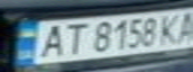1: (109, 17, 130, 51)
5: (127, 16, 148, 48)
8: (90, 18, 115, 53), (139, 15, 163, 47)
A: (33, 21, 69, 59), (172, 8, 193, 43)
K: (157, 11, 184, 45)
T: (57, 20, 90, 56)
